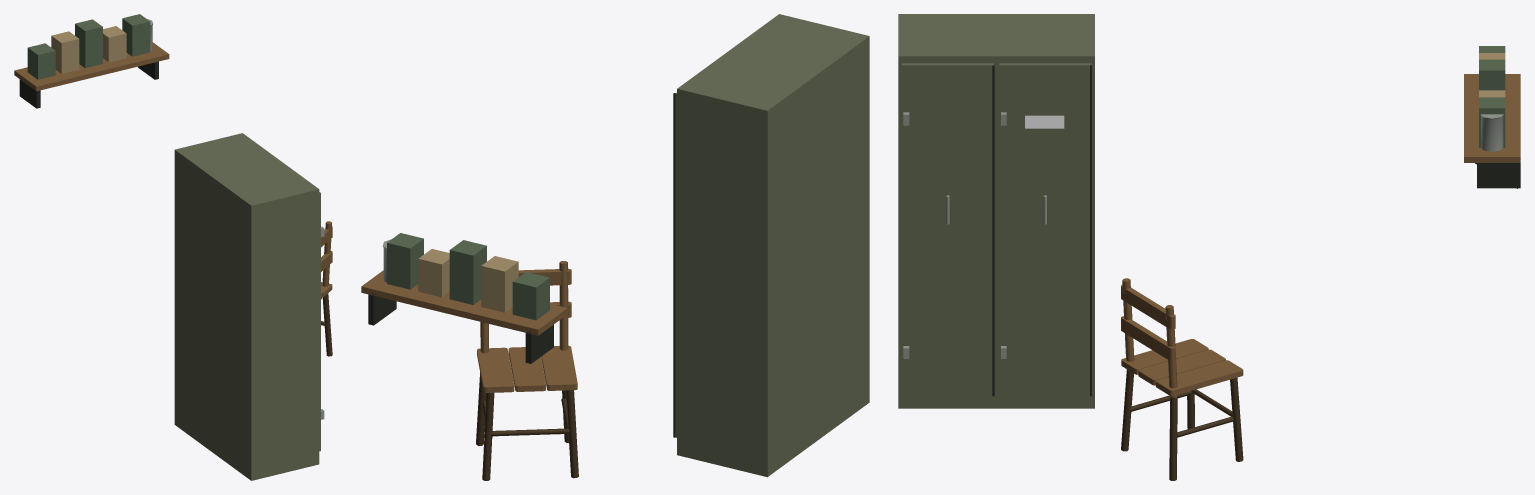
The model's file is SM_FieldStation_Hut_Props_LOD2.fbx.
The picture shows the model from 3 angles, left to right: view 1: azimuth 30°, elevation 25°; view 2: azimuth 150°, elevation 25°; view 3: azimuth 270°, elevation 25°; orthographic projection. The views are drawn at different scales.
Visible parts, largest first — view 1: SM_FieldStation_Hut_Props_LOD2; view 2: SM_FieldStation_Hut_Props_LOD2; view 3: SM_FieldStation_Hut_Props_LOD2.
Boxes of the visible parts, <box> form: SM_FieldStation_Hut_Props_LOD2: <box>14,14,332,480</box>; SM_FieldStation_Hut_Props_LOD2: <box>361,14,869,480</box>; SM_FieldStation_Hut_Props_LOD2: <box>898,14,1520,480</box>.
Size of the model in its own units: 1.27 by 2.85 by 1.78.
